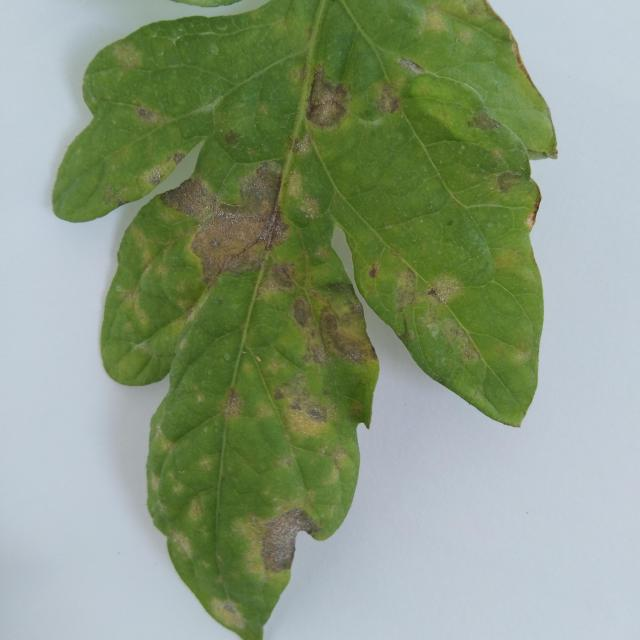Early Blight: (51, 0, 562, 640)
